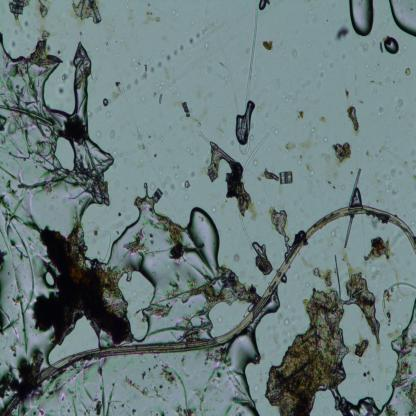Air bubble: (30, 225, 137, 346), (381, 302, 416, 416), (230, 332, 268, 416), (117, 266, 158, 341), (43, 312, 99, 363), (184, 204, 223, 276), (331, 385, 384, 416), (347, 0, 375, 41), (388, 0, 416, 36), (264, 294, 281, 314), (384, 36, 399, 54), (42, 268, 54, 289), (258, 0, 266, 13), (101, 96, 109, 106), (280, 274, 288, 283)
Anthropogenic: (0, 199, 416, 415)
Background material: (264, 289, 347, 416), (0, 36, 59, 135), (0, 128, 68, 196), (207, 141, 257, 219), (62, 142, 112, 210), (344, 264, 380, 356), (0, 188, 45, 260), (148, 275, 206, 320), (206, 266, 260, 308), (158, 360, 196, 416), (363, 236, 400, 282), (9, 287, 30, 357), (378, 142, 416, 180), (124, 368, 164, 402), (300, 253, 337, 288), (96, 362, 116, 416), (169, 314, 209, 340), (61, 112, 89, 145), (251, 240, 275, 276), (170, 221, 190, 262), (203, 345, 232, 373), (268, 204, 290, 239), (73, 0, 102, 26), (127, 229, 156, 254), (330, 141, 356, 167), (181, 110, 210, 132), (70, 385, 90, 416), (197, 379, 213, 416), (144, 212, 172, 231), (348, 166, 362, 204), (396, 358, 412, 388), (400, 328, 416, 357), (346, 107, 362, 135), (301, 126, 317, 154), (332, 258, 343, 298), (302, 160, 315, 193), (391, 93, 408, 118), (374, 176, 390, 202), (327, 225, 343, 250), (0, 314, 16, 339), (342, 249, 356, 276), (109, 81, 125, 101), (345, 214, 354, 248), (142, 10, 160, 26), (92, 394, 105, 416), (124, 7, 137, 28), (408, 382, 416, 416), (0, 247, 9, 276), (258, 170, 279, 182), (28, 405, 50, 416), (351, 188, 363, 208), (35, 0, 49, 17), (384, 404, 403, 416), (334, 25, 349, 40), (162, 177, 176, 193), (48, 41, 64, 55), (373, 100, 387, 116), (216, 120, 228, 137), (160, 62, 170, 82), (62, 67, 74, 83), (36, 26, 50, 39), (150, 82, 165, 93), (388, 327, 400, 340), (128, 59, 142, 70), (324, 178, 338, 189), (172, 92, 182, 107), (17, 403, 28, 416), (179, 177, 190, 190), (186, 146, 196, 160), (33, 352, 43, 366), (364, 368, 375, 380), (296, 110, 306, 123), (256, 102, 269, 112), (262, 40, 274, 50), (359, 41, 369, 52), (9, 36, 18, 48), (11, 345, 20, 357), (150, 409, 165, 416), (94, 128, 103, 139), (109, 129, 118, 140), (284, 142, 295, 151), (404, 66, 412, 78), (292, 155, 302, 164), (391, 168, 399, 179), (292, 47, 298, 61), (57, 86, 66, 95), (91, 227, 100, 236), (22, 17, 30, 27), (292, 271, 300, 281), (284, 314, 290, 327), (278, 184, 284, 196), (322, 134, 330, 143), (133, 76, 140, 86), (320, 114, 327, 124), (345, 87, 350, 100), (140, 73, 148, 81), (113, 180, 121, 188), (132, 407, 139, 416), (93, 46, 101, 53), (138, 370, 146, 377), (380, 38, 384, 52), (104, 112, 113, 118), (196, 89, 202, 98), (373, 85, 378, 95), (172, 49, 178, 57), (189, 36, 195, 44), (274, 127, 280, 135), (356, 358, 362, 366), (172, 11, 180, 17), (234, 254, 240, 262), (391, 186, 397, 194), (364, 150, 370, 158), (318, 70, 324, 78), (342, 51, 348, 59), (402, 44, 408, 51), (365, 71, 372, 77), (306, 41, 312, 48), (159, 96, 165, 103), (202, 27, 208, 34), (14, 26, 18, 36), (183, 193, 188, 201), (167, 54, 172, 62), (358, 100, 364, 106), (330, 61, 335, 68), (254, 159, 259, 166), (151, 67, 156, 73), (385, 384, 390, 390), (157, 62, 162, 68), (24, 34, 31, 38), (113, 152, 118, 157), (180, 44, 184, 50), (192, 172, 196, 178), (343, 185, 346, 192), (196, 32, 200, 37), (364, 63, 368, 68), (118, 212, 122, 217), (148, 367, 152, 372), (398, 50, 401, 56), (206, 42, 209, 48), (399, 324, 402, 329), (412, 220, 414, 227)
Diatom: (0, 355, 45, 402), (10, 0, 25, 19), (279, 169, 293, 185), (151, 187, 162, 204), (208, 168, 219, 182), (182, 102, 191, 118)
Glass filter fibre: (101, 21, 144, 146), (113, 122, 178, 161), (215, 27, 238, 111), (244, 0, 260, 106), (240, 132, 271, 180), (381, 280, 416, 317), (239, 209, 259, 257), (347, 76, 383, 97), (210, 67, 233, 80), (240, 142, 250, 154)
